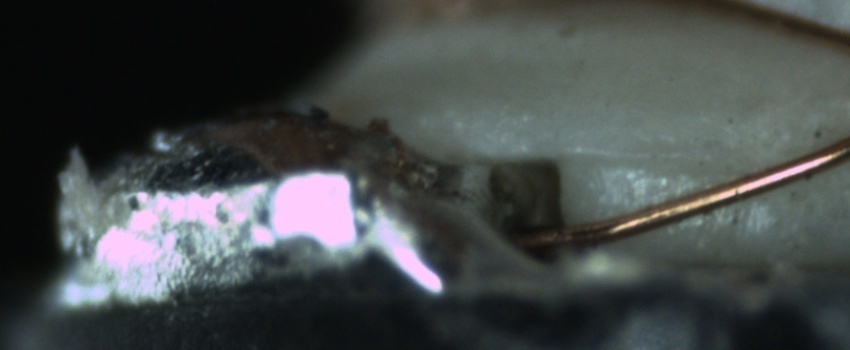DL: (581, 123, 718, 191)
